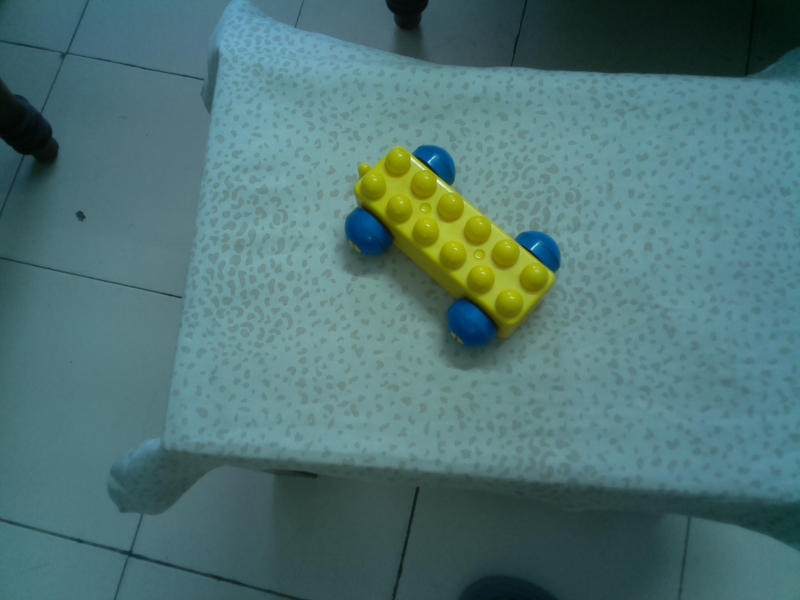toy_Car: (338, 138, 566, 354)
